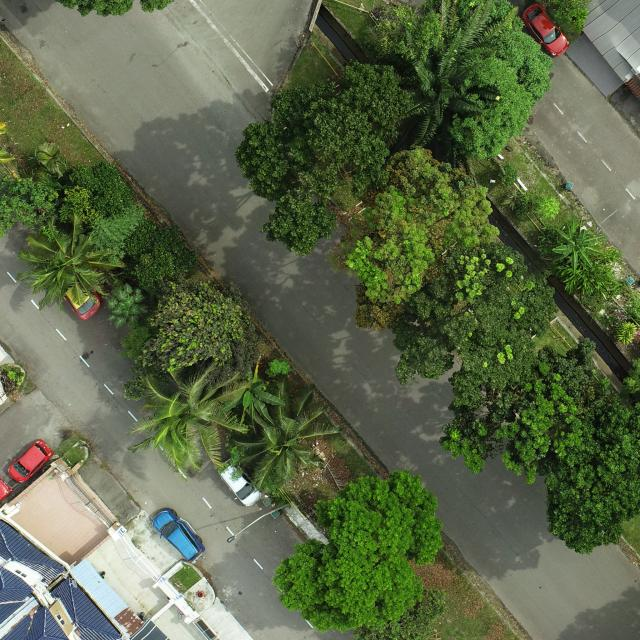banana_tree2: (221, 355, 287, 426), (552, 218, 608, 274)
tree: (234, 59, 416, 257), (345, 143, 502, 330), (393, 241, 557, 409), (438, 336, 602, 486), (424, 0, 554, 158), (391, 0, 519, 149), (536, 402, 640, 554), (126, 358, 252, 482), (271, 536, 425, 633), (138, 276, 264, 390), (232, 374, 344, 494), (312, 468, 446, 566), (17, 210, 125, 310), (123, 219, 198, 291), (352, 588, 448, 640), (63, 160, 132, 222), (543, 247, 624, 295), (86, 202, 146, 264), (0, 174, 58, 238), (106, 282, 149, 328), (535, 196, 561, 220), (265, 358, 292, 378)
